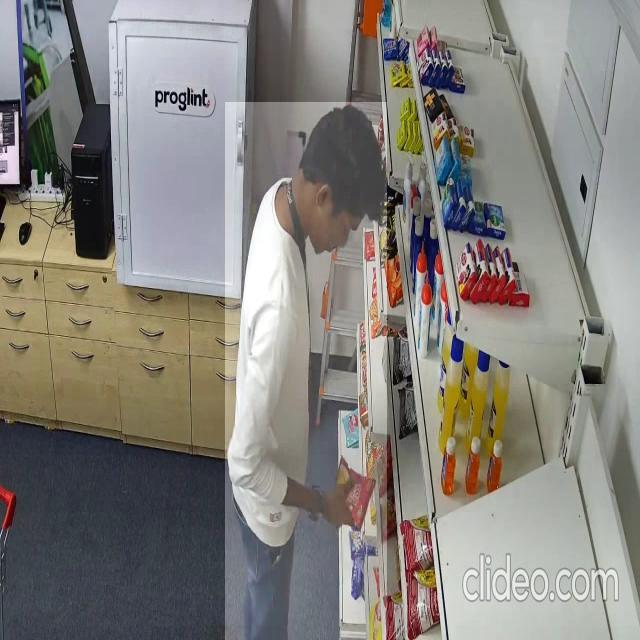normal: (225, 102, 387, 640)
